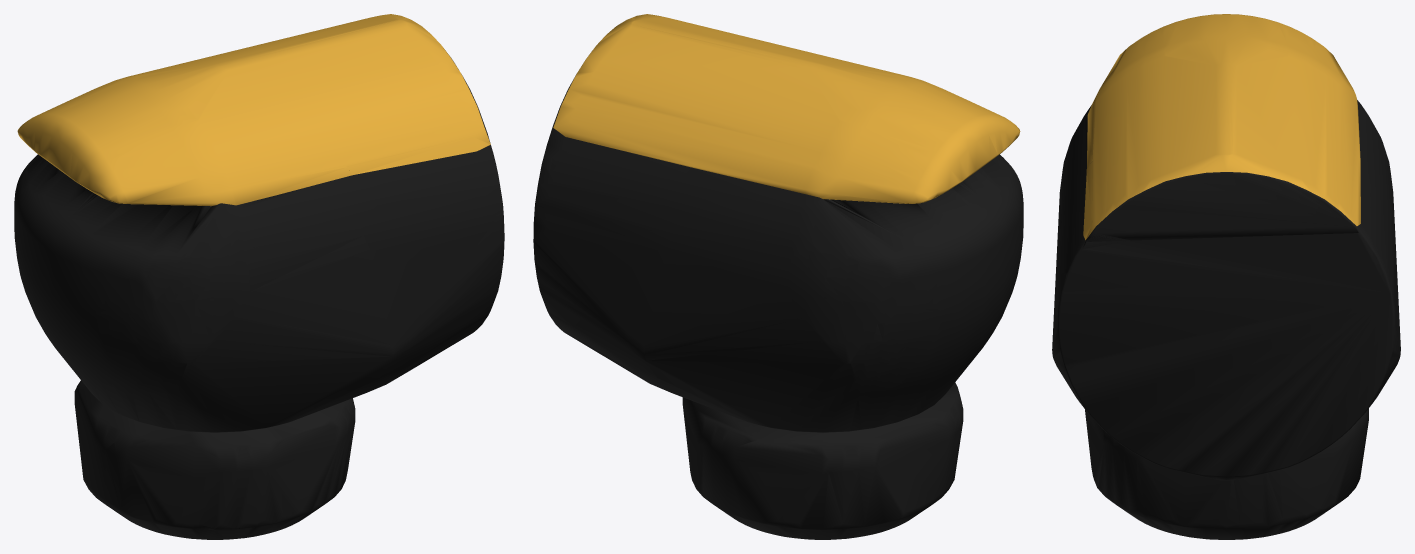
File: arm_link_wr0.obj
The picture shows the model from 3 angles, left to right: view 1: azimuth 30°, elevation 25°; view 2: azimuth 150°, elevation 25°; view 3: azimuth 270°, elevation 25°; orthographic projection.
Parts seen in each view (by area): view 1: arm0.link_wr0.001; view 2: arm0.link_wr0.001; view 3: arm0.link_wr0.001.
Boxes of the visible parts, <box> form: arm0.link_wr0.001: <box>14,14,504,539</box>; arm0.link_wr0.001: <box>533,14,1023,539</box>; arm0.link_wr0.001: <box>1052,14,1400,539</box>.
Bounding box in the file's own units: 0.0992 × 0.1067 × 0.0775.
